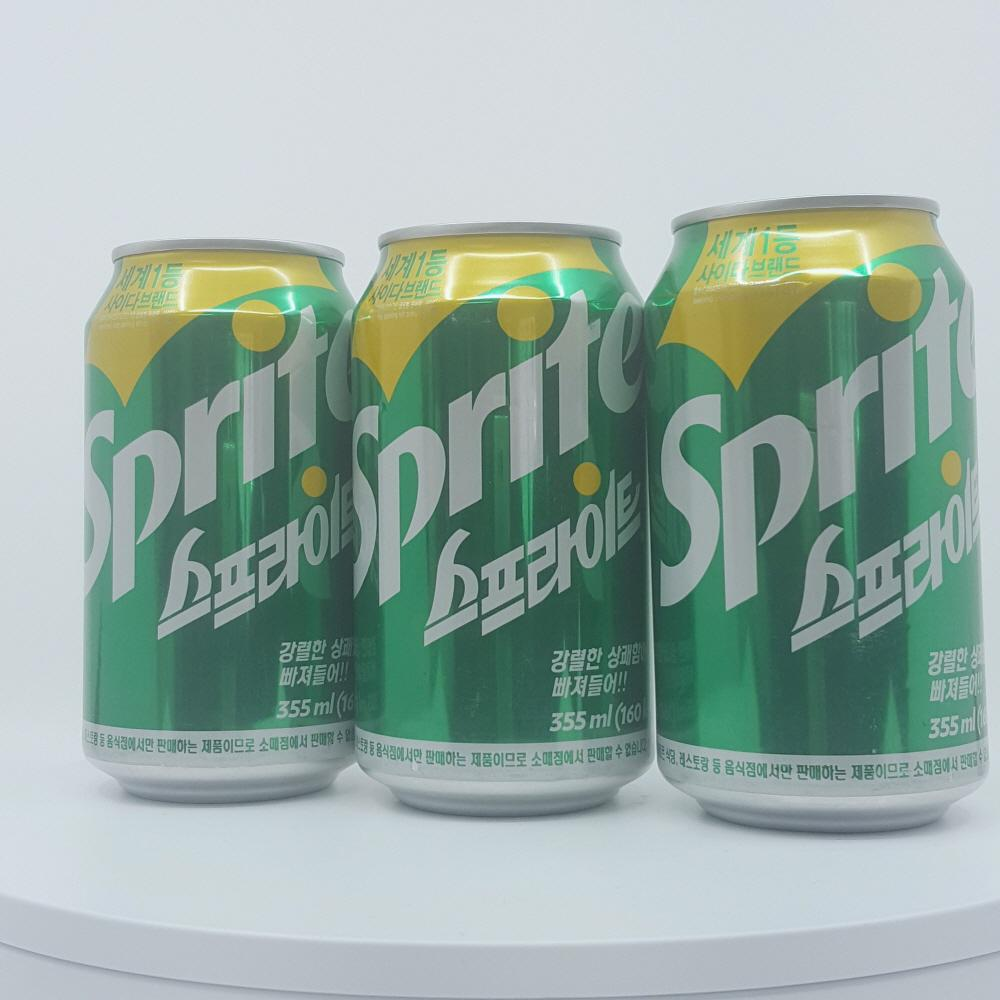sprite: (653, 198, 999, 836), (71, 220, 375, 805), (371, 215, 655, 815)
